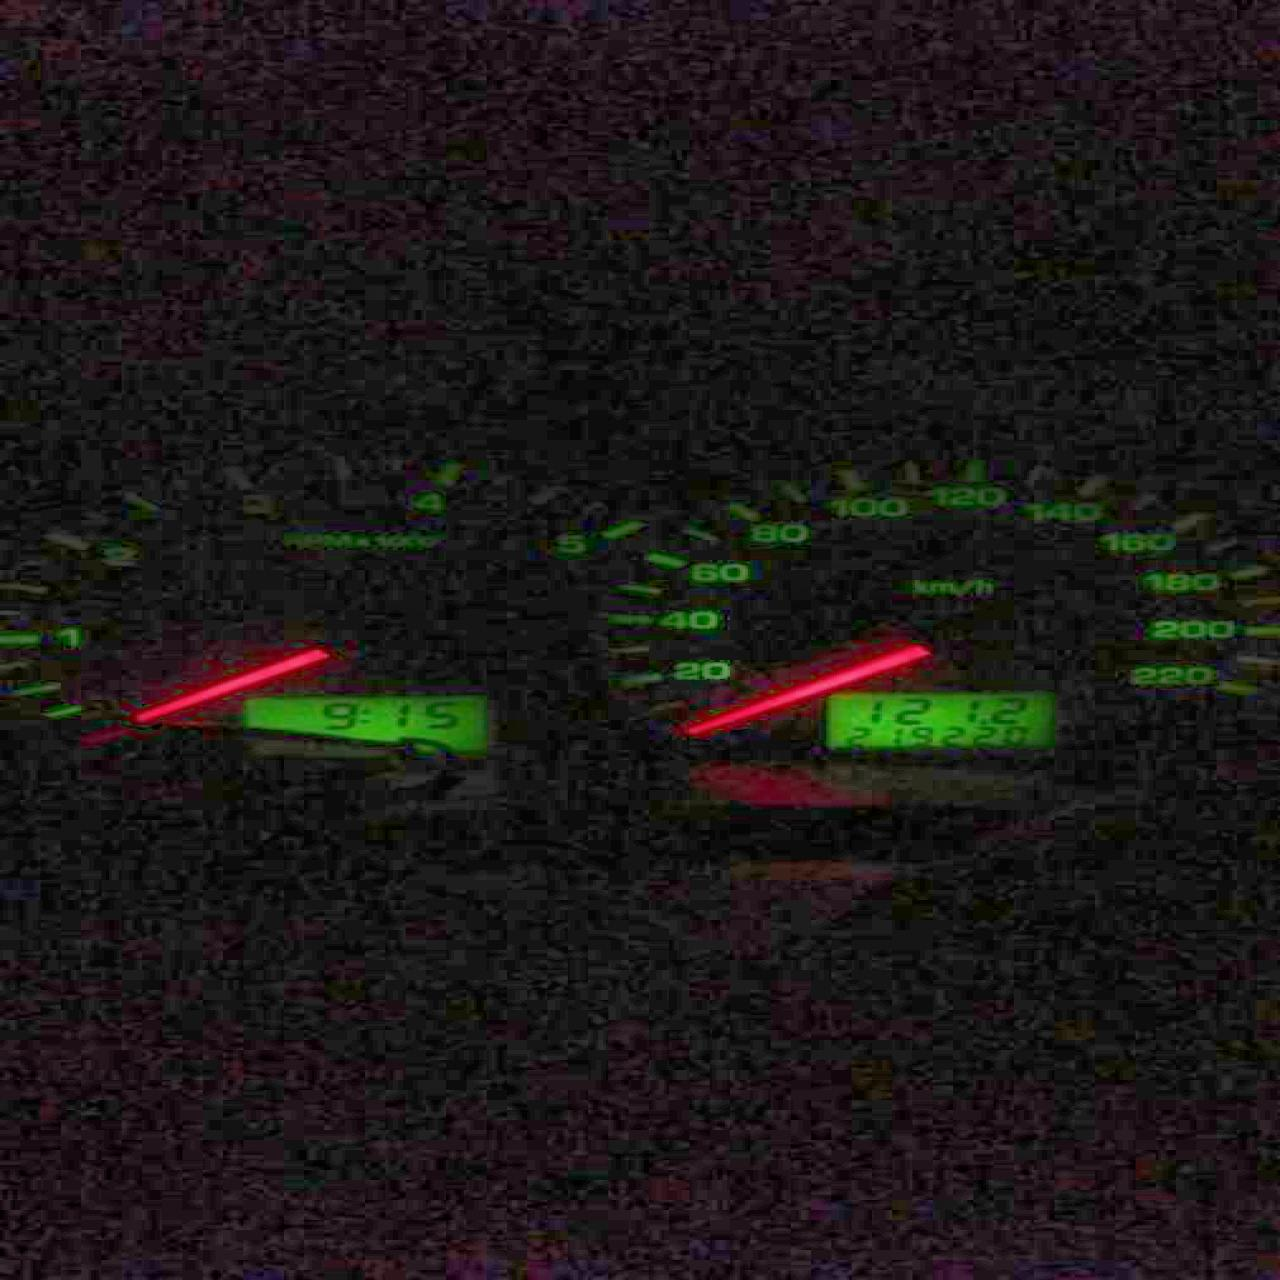-: (976, 716, 986, 722)
0: (999, 726, 1027, 744)
1: (864, 696, 881, 722), (961, 696, 979, 720), (887, 726, 905, 745)
2: (989, 695, 1029, 724), (890, 696, 931, 723), (842, 726, 872, 745), (935, 726, 966, 745), (968, 726, 994, 744)
9: (907, 724, 933, 745)
odometer: (811, 689, 1060, 750)
